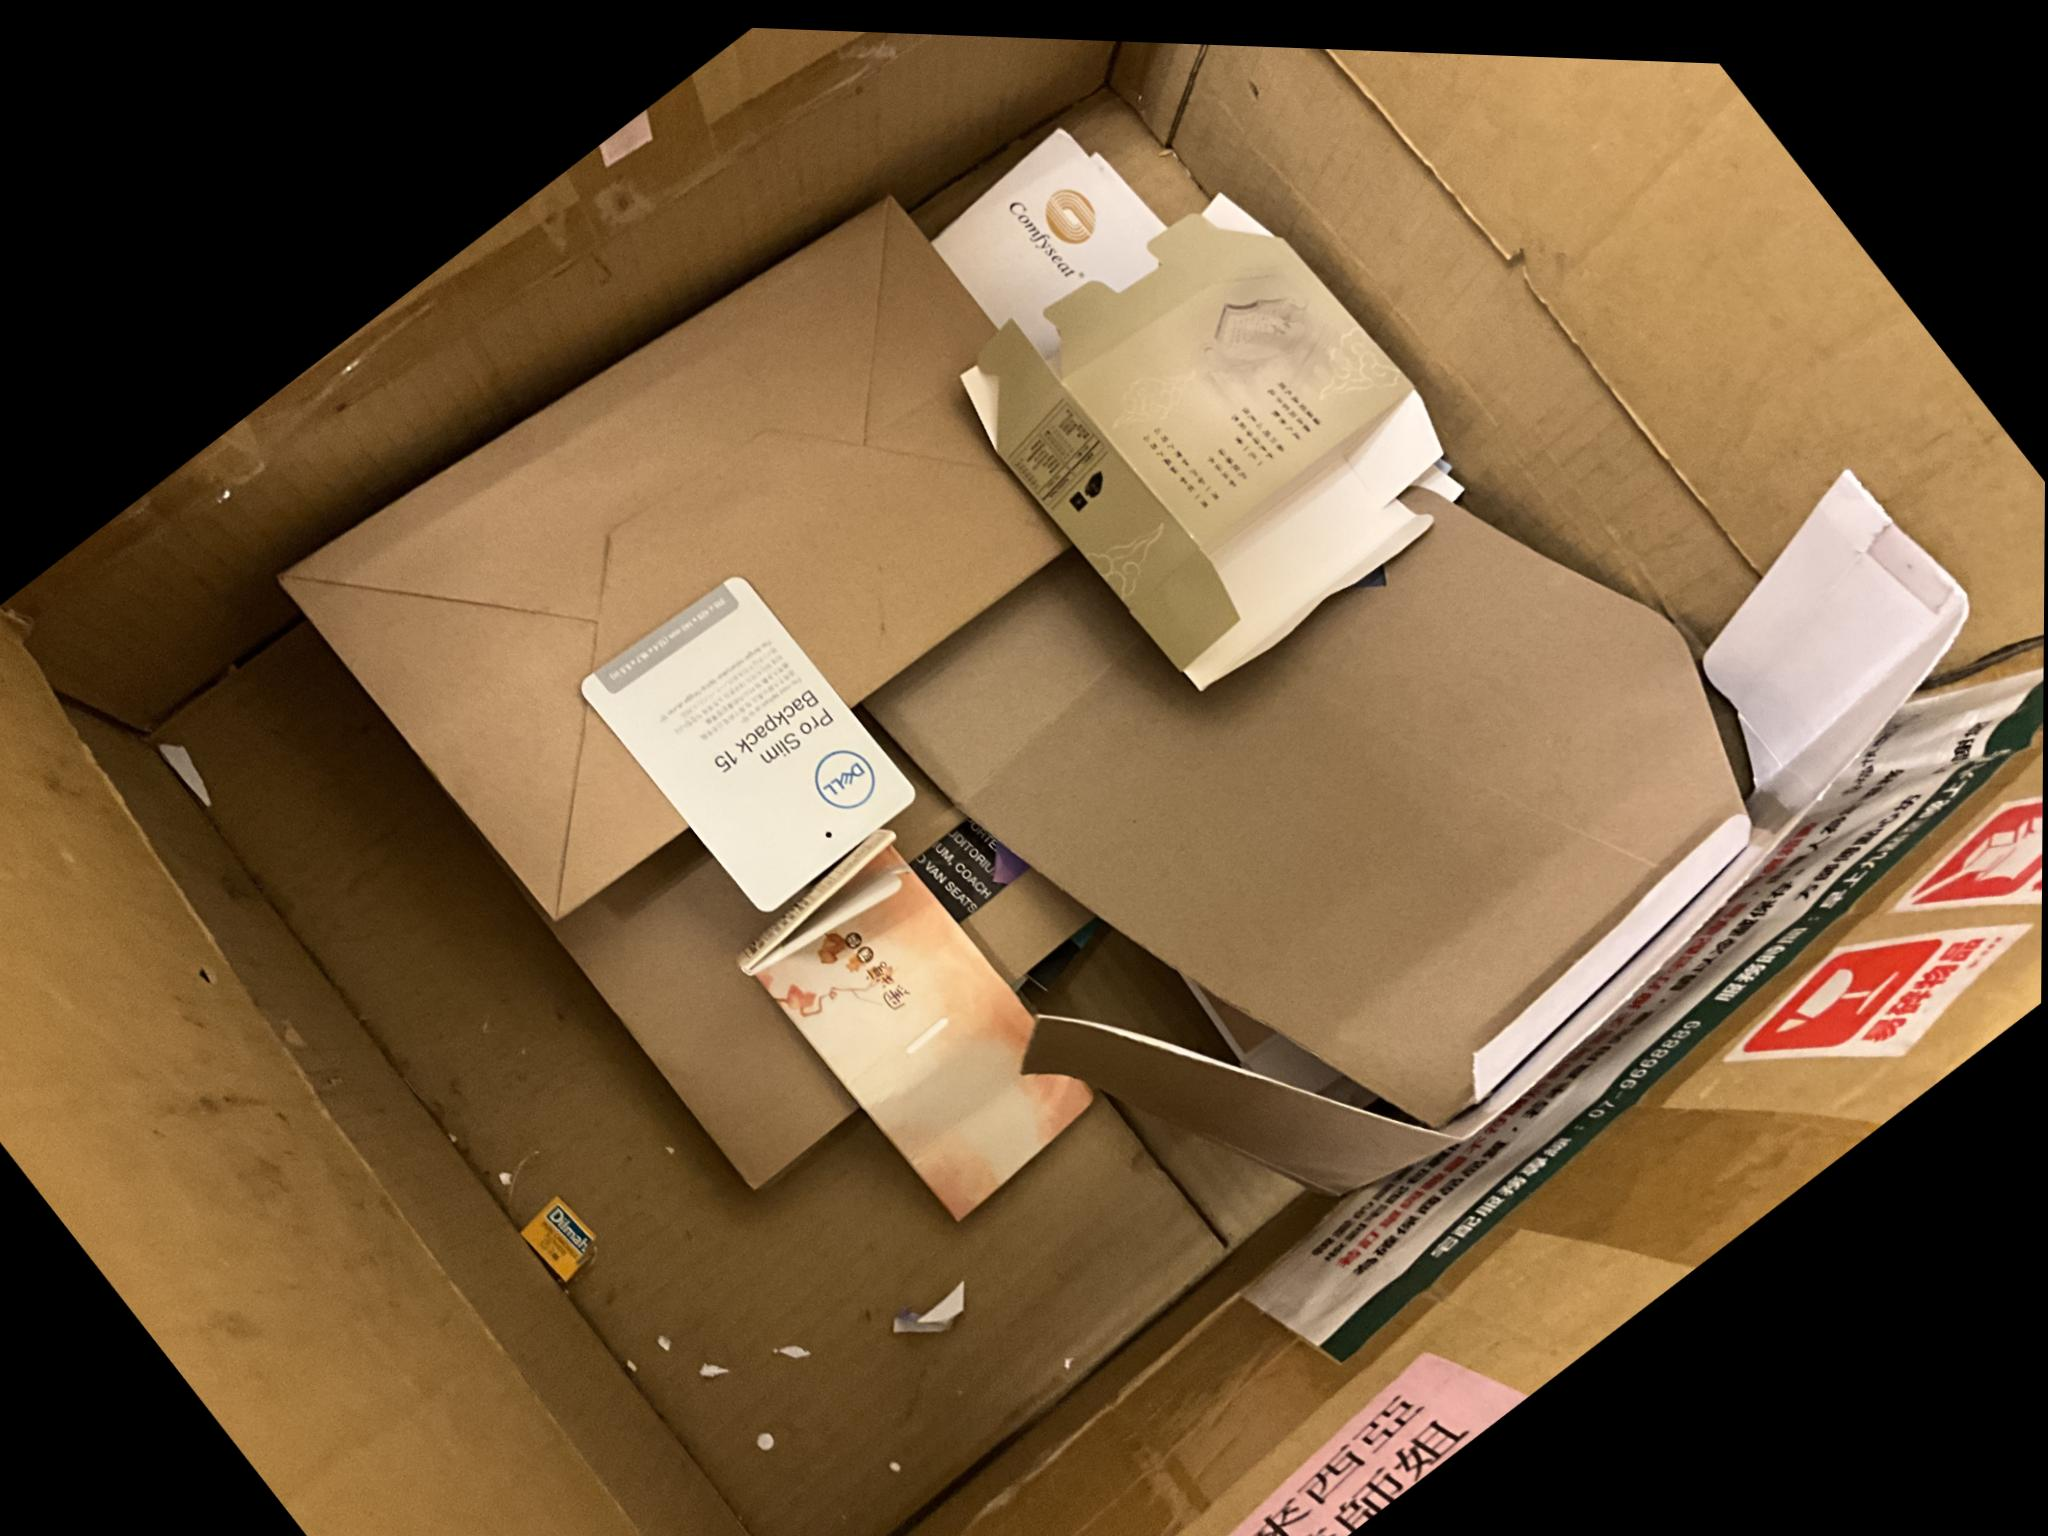cardboard: (874, 428, 2038, 1341), (0, 620, 748, 1534), (284, 203, 1063, 916), (935, 132, 1459, 687), (740, 831, 1090, 1217), (582, 578, 913, 912), (555, 834, 851, 1184)
